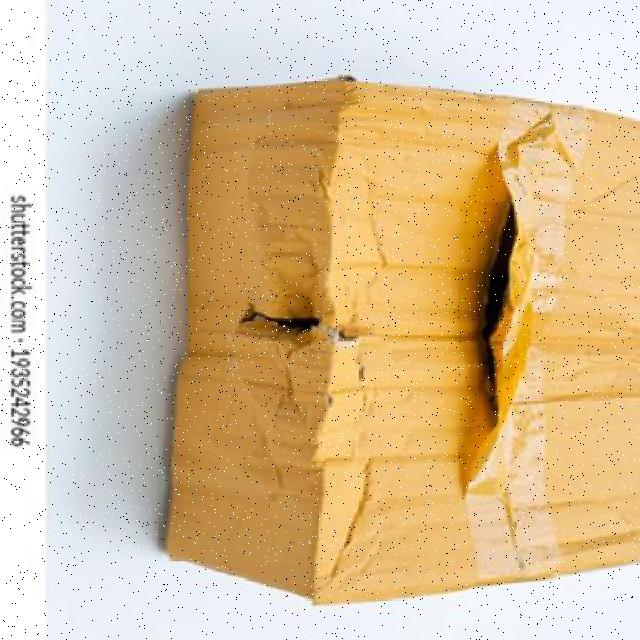defect: (164, 75, 636, 611)
